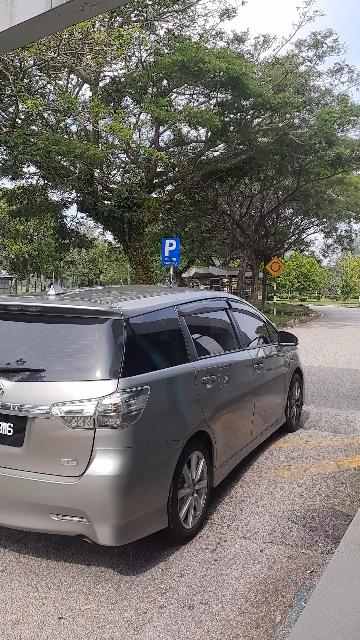car: (1, 283, 319, 561)
